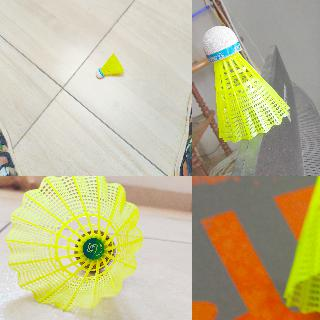shuttlecock: (3, 176, 146, 313), (202, 26, 290, 142), (285, 176, 319, 316), (96, 52, 124, 78)
